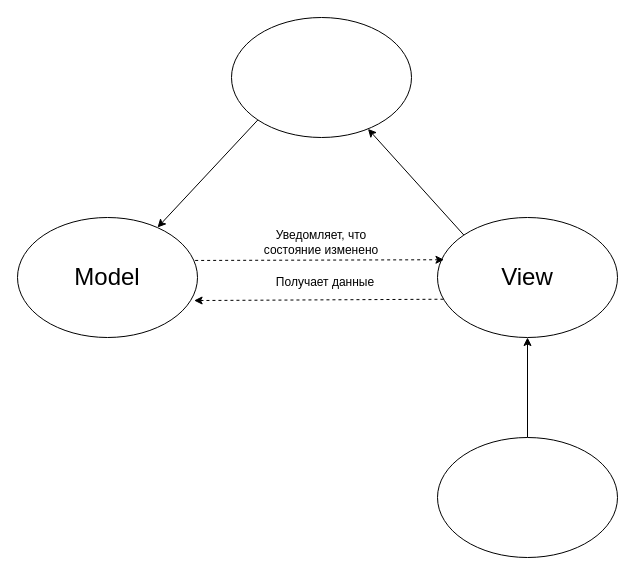
Some shapes in this 635 by 575 pixel diagram are drawn without their labels. The shapes that lost their labels are listed below. From the top down, each one's centre as x and y in pixels, then its label:
the point at 321,77: Presenter
the point at 527,497: User
